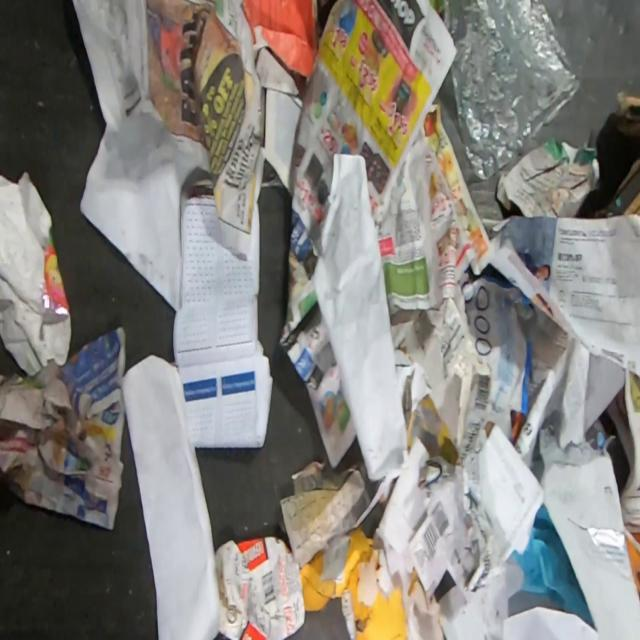cardboard: (215, 536, 306, 639), (592, 157, 640, 219), (614, 90, 640, 138)
soft_plastic: (442, 0, 583, 182), (0, 171, 73, 377)
